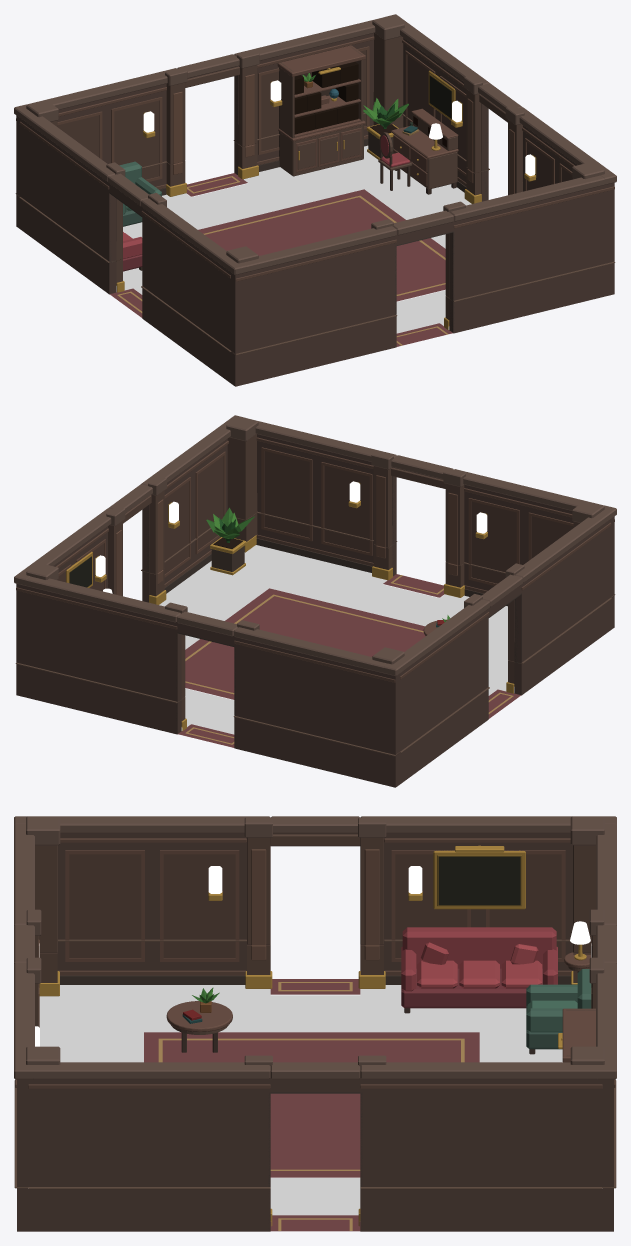
File: lounge.glb
The picture shows the model from 3 angles, top to bottom: view 1: azimuth 30°, elevation 25°; view 2: azimuth 150°, elevation 25°; view 3: azimuth 270°, elevation 25°; orthographic projection. The views are drawn at different scales.
Parts seen in each view (by area): view 1: static, floor, W_south_0_up, W_south_1_up, W_north_0_up, W_west_0_up, W_north_1_up, W_west_1_up, W_east_0_up, W_east_1_up; view 2: static, floor, W_north_0_up, W_north_1_up, W_south_1_up, W_south_0_up, W_west_0_up, W_west_1_up, W_east_1_up, W_east_0_up; view 3: static, floor, W_east_0_up, W_east_1_up, W_west_0_up, W_west_1_up, W_south_0_up, W_north_0_up, W_south_1_up, W_north_1_up.
Part boxes in pixels (x1,y1,x2,y2): static: [15, 45, 615, 386]; floor: [110, 145, 471, 346]; W_south_0_up: [226, 210, 453, 353]; W_south_1_up: [443, 162, 616, 300]; W_north_0_up: [14, 54, 239, 196]; W_west_0_up: [14, 104, 148, 262]; W_north_1_up: [234, 15, 404, 146]; W_west_1_up: [141, 193, 246, 350]; W_east_0_up: [385, 14, 522, 173]; W_east_1_up: [505, 105, 616, 195]; static: [15, 493, 615, 787]; floor: [159, 545, 520, 747]; W_north_0_up: [177, 611, 404, 754]; W_north_1_up: [14, 563, 187, 701]; W_south_1_up: [226, 416, 396, 547]; W_south_0_up: [391, 455, 616, 597]; W_west_0_up: [384, 574, 522, 751]; W_west_1_up: [505, 505, 616, 662]; W_east_1_up: [141, 415, 245, 574]; W_east_0_up: [14, 484, 152, 596]; static: [14, 921, 616, 1231]; floor: [39, 979, 562, 1231]; W_east_0_up: [270, 1055, 616, 1186]; W_east_1_up: [14, 1055, 272, 1186]; W_west_0_up: [270, 816, 616, 945]; W_west_1_up: [14, 816, 272, 945]; W_south_0_up: [14, 816, 60, 987]; W_north_0_up: [570, 816, 616, 987]; W_south_1_up: [14, 957, 60, 1186]; W_north_1_up: [570, 957, 616, 1186].
Bounding box in the file's own units: 8.08 × 2.48 × 8.08.
